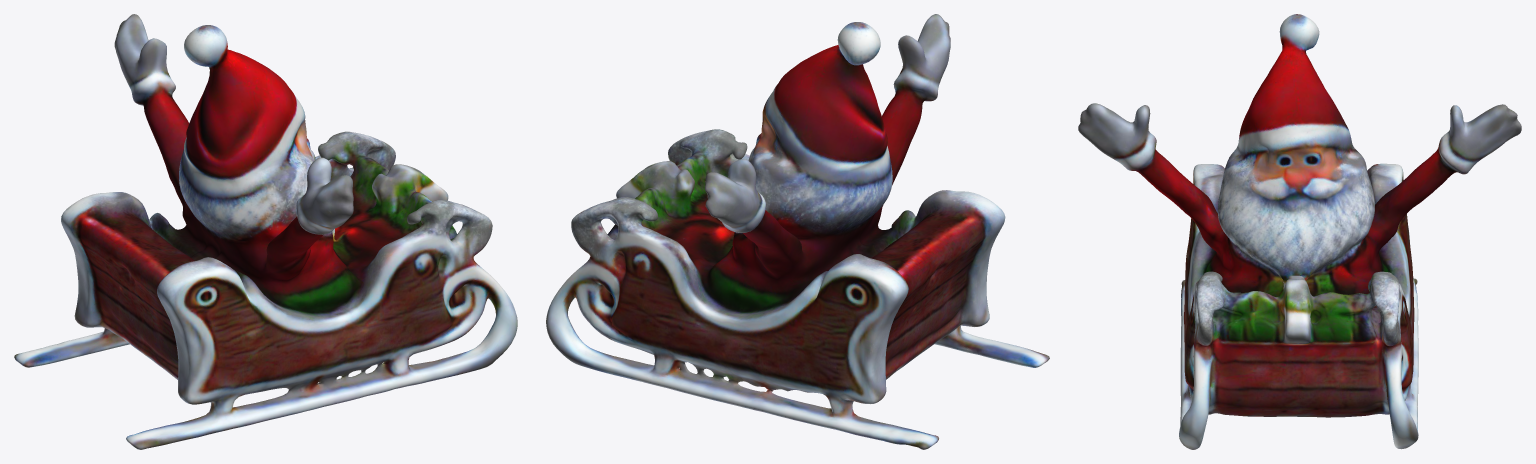
Rendered from b6f10efc6b65_A_simple_3D_model_of_Santa_Claus.glb.
The picture shows the model from 3 angles, left to right: view 1: azimuth 30°, elevation 25°; view 2: azimuth 150°, elevation 25°; view 3: azimuth 270°, elevation 25°; orthographic projection. The views are drawn at different scales.
Visible parts, largest first — view 1: geometry_0; view 2: geometry_0; view 3: geometry_0.
Boxes of the visible parts, left/top/right/bottom form: geometry_0: left=14, top=14, right=517, bottom=449; geometry_0: left=546, top=14, right=1049, bottom=449; geometry_0: left=1078, top=14, right=1521, bottom=449.
Size of the model in its own units: 0.4426 by 0.3873 by 0.4698.
1 material, 1 textured.
